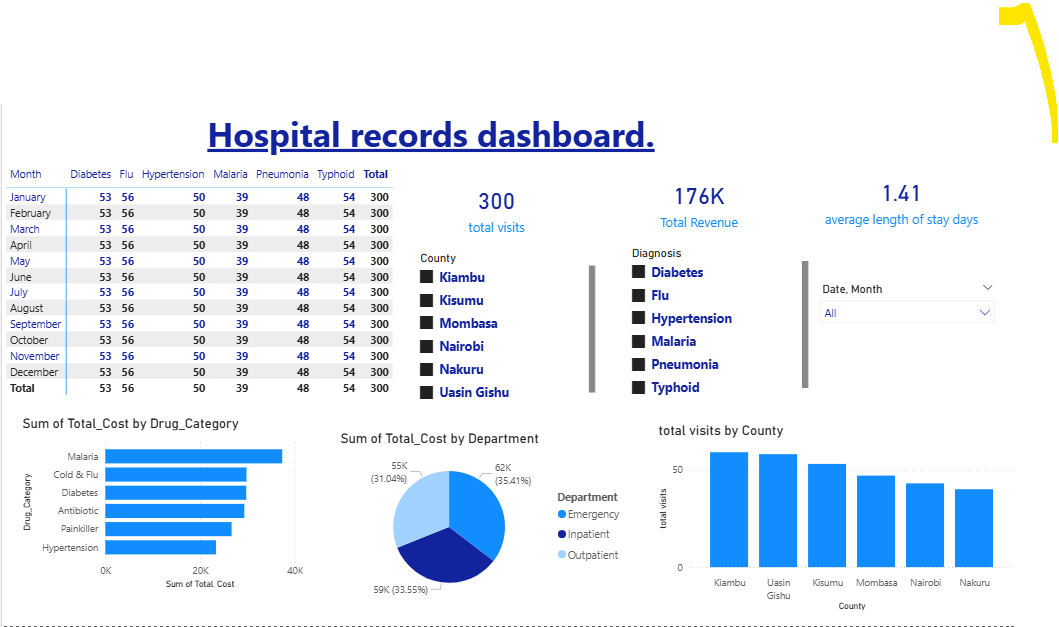

This screenshot's page, from the dashboard's own definition file:
{"tool":"powerbi","page":{"name":"Dashboard","canvas":[1280,720],"ordinal":1},"visuals":[{"type":"textbox","box":[0,64.3,1081,69.9],"z":0},{"type":"card","fields":{"Values":["Pharmacy_Transactions.Total Revenue"]},"box":[750.2,130.4,255.1,111.5],"z":1000},{"type":"card","fields":{"Values":["Visits.total visits"]},"box":[495.1,141.7,255.1,100.2],"z":2000},{"type":"card","fields":{"Values":["Visits.average length of stay days"]},"box":[1005.4,119.1,255.1,126.6],"z":3000},{"type":"clusteredBarChart","fields":{"Category":["Pharmacy_Transactions.Drug_Category"],"Y":["Sum(Pharmacy_Transactions.Total_Cost)"]},"box":[20.8,453.5,362.8,223],"z":4000},{"type":"pivotTable","fields":{"Rows":["Date Table.Date.Variation.Date Hierarchy.Month"],"Values":["Visits.total visits"],"Columns":["Visits.Diagnosis"]},"box":[0,134.2,514,302.4],"z":5000},{"type":"clusteredColumnChart","fields":{"Category":["Patients.County"],"Y":["Visits.total visits"]},"box":[822.1,463,457.3,241.9],"z":6000},{"type":"pieChart","fields":{"Category":["Visits.Department"],"Y":["Sum(Pharmacy_Transactions.Total_Cost)"]},"box":[421.4,472.4,376.1,223],"z":7000},{"type":"slicer","fields":{"Values":["Patients.County"]},"box":[514,241.9,238.1,200.3],"z":8000},{"type":"slicer","fields":{"Values":["Visits.Diagnosis"]},"box":[780.5,236.2,240,200.3],"z":9000},{"type":"slicer","fields":{"Values":["Date Table.Date","Date Table.Date.Variation.Date Hierarchy.Month"]},"box":[1020.5,281.6,240,115.3],"z":10000}]}

Visuals, with their boxes on the page's 1280x720 design canvas (x1, y1, x2, y2). These are canvas units, not pixel positions in the 1059x627 screenshot, which may show the page scaled, cropped or inside an application window:
textbox: crop(0, 64, 1081, 134)
card - Pharmacy_Transactions.Total Revenue: crop(750, 130, 1005, 242)
card - Visits.total visits: crop(495, 142, 750, 242)
card - Visits.average length of stay days: crop(1005, 119, 1260, 246)
clusteredBarChart - Pharmacy_Transactions.Drug_Category x Sum(Pharmacy_Transactions.Total_Cost): crop(21, 454, 384, 676)
pivotTable - Date Table.Date.Variation.Date Hierarchy.Month x Visits.total visits: crop(0, 134, 514, 437)
clusteredColumnChart - Patients.County x Visits.total visits: crop(822, 463, 1279, 705)
pieChart - Visits.Department x Sum(Pharmacy_Transactions.Total_Cost): crop(421, 472, 798, 695)
slicer - Patients.County: crop(514, 242, 752, 442)
slicer - Visits.Diagnosis: crop(780, 236, 1020, 436)
slicer - Date Table.Date x Date Table.Date.Variation.Date Hierarchy.Month: crop(1020, 282, 1260, 397)
